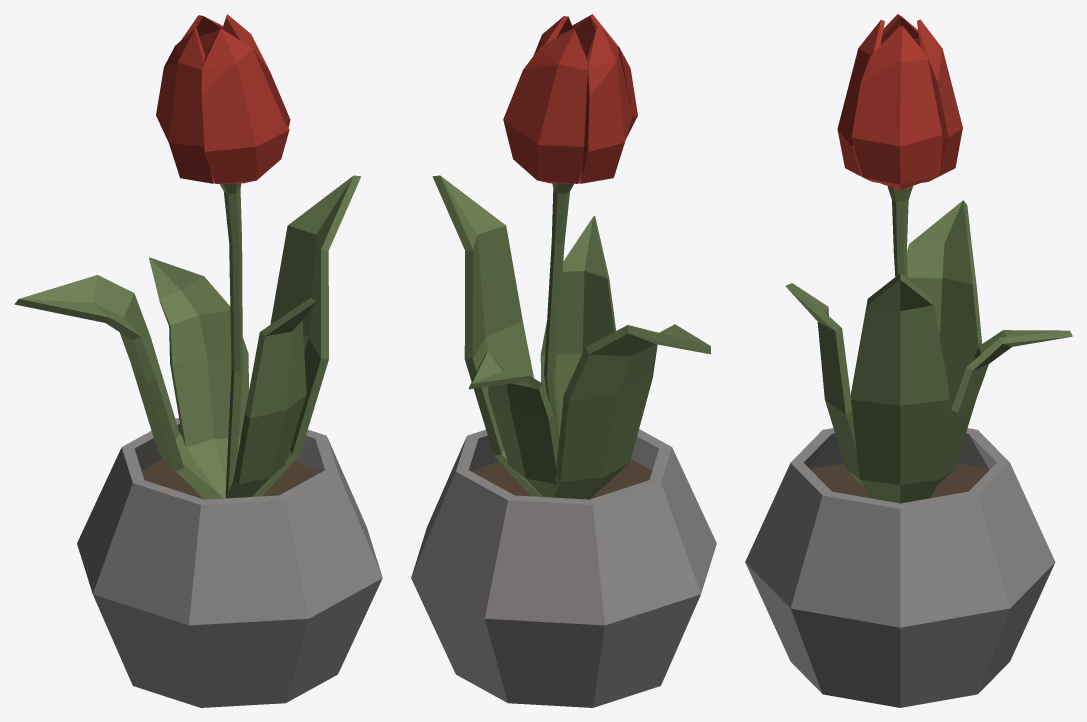
File: SM_Props_Interior_Plant_Small_03.fbx
The picture shows the model from 3 angles, left to right: view 1: azimuth 30°, elevation 25°; view 2: azimuth 150°, elevation 25°; view 3: azimuth 270°, elevation 25°; orthographic projection. The views are drawn at different scales.
Visible parts, largest first — view 1: SM_Props_Interior_Plant_Small_03; view 2: SM_Props_Interior_Plant_Small_03; view 3: SM_Props_Interior_Plant_Small_03.
Part boxes in pixels (x1,y1,x2,y2): SM_Props_Interior_Plant_Small_03: [14, 14, 382, 707]; SM_Props_Interior_Plant_Small_03: [411, 14, 716, 707]; SM_Props_Interior_Plant_Small_03: [745, 14, 1072, 707].
Bounding box in the file's own units: 27.88 × 54.78 × 25.34.
